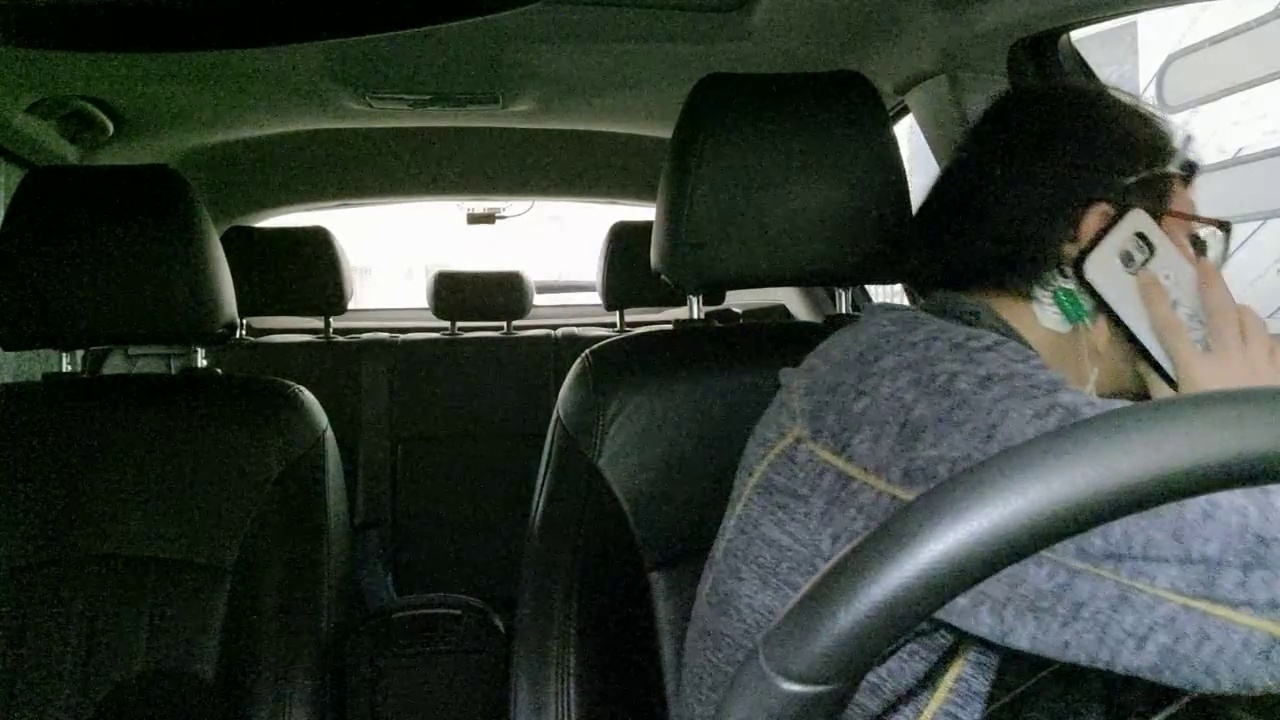phone: (1043, 184, 1254, 399)
